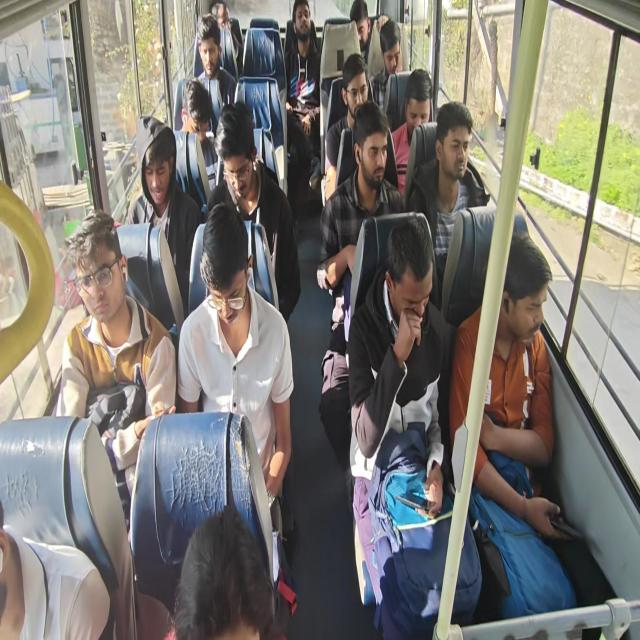person: (347, 213, 482, 638), (448, 229, 578, 620), (54, 208, 177, 538), (176, 201, 294, 533), (316, 99, 406, 497), (204, 100, 301, 324), (406, 100, 487, 307), (124, 116, 201, 318), (168, 503, 278, 639), (0, 522, 111, 639), (282, 0, 321, 188), (324, 52, 370, 202), (390, 68, 432, 197), (194, 14, 236, 134), (180, 77, 218, 191), (368, 19, 402, 110), (209, 0, 243, 80), (349, 0, 388, 66)
